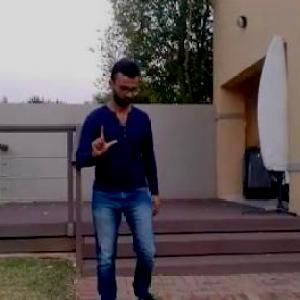land_hand: (87, 118, 120, 160)
